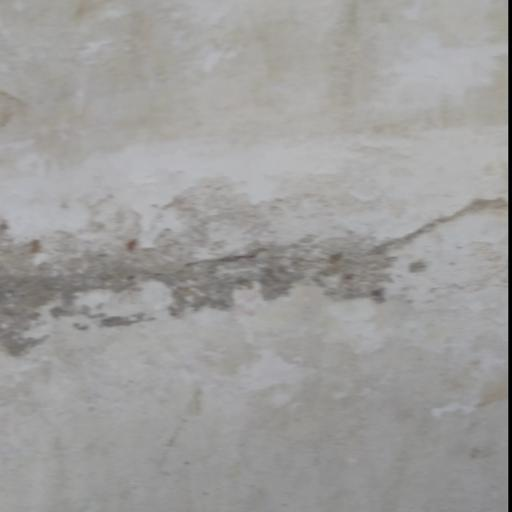peeling: (11, 167, 512, 376)
